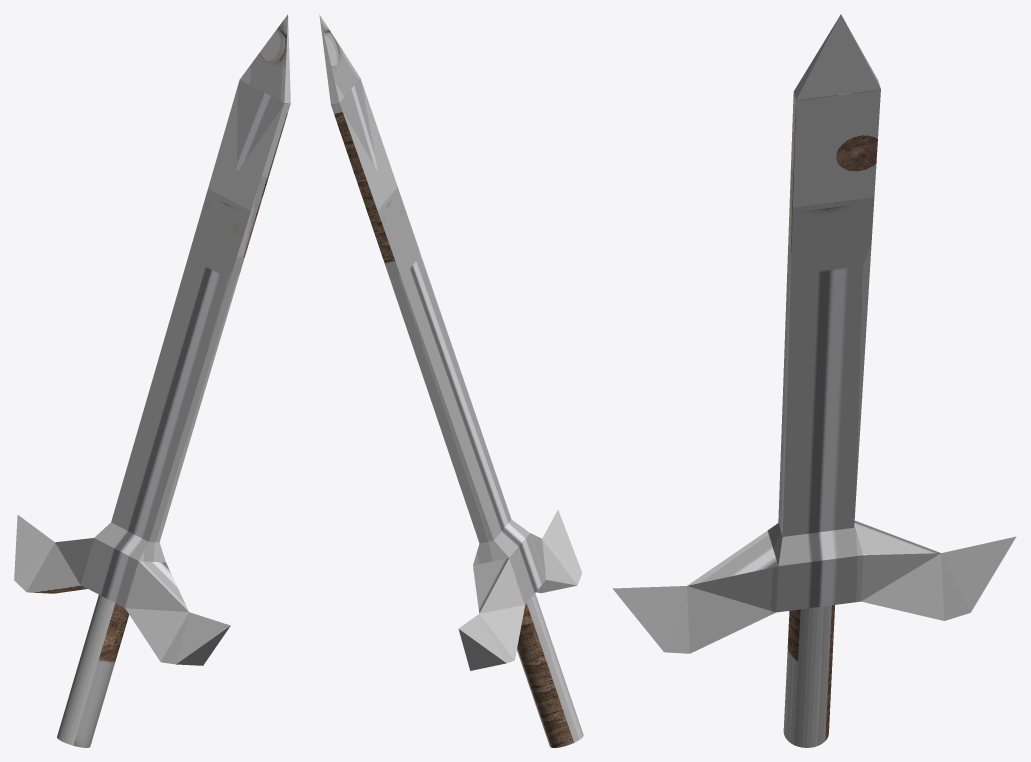
File: Protagonista19.obj
3 renders of one model, left to right at view 1: azimuth 30°, elevation 25°; view 2: azimuth 150°, elevation 25°; view 3: azimuth 270°, elevation 25°, orthographic. The views are drawn at different scales.
Parts seen in each view (by area): view 1: Cube; view 2: Cube; view 3: Cube.
Part boxes in pixels (x1,y1,x2,y2): Cube: (14,14,290,747); Cube: (319,14,583,747); Cube: (612,14,1016,747).
Size of the model in its own units: 0.6285 by 1.66 by 0.6984.
Materials: 1 (1 with a texture image).
